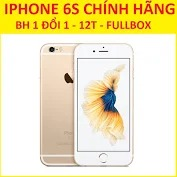iphone: (72, 40, 133, 168)
iphone6: (72, 40, 133, 168)
